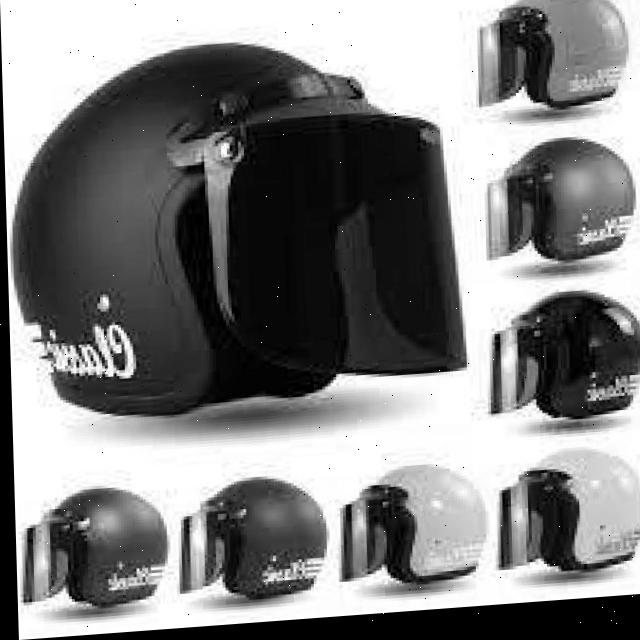Helmet: (9, 31, 460, 419), (480, 0, 640, 599), (11, 463, 487, 625)
